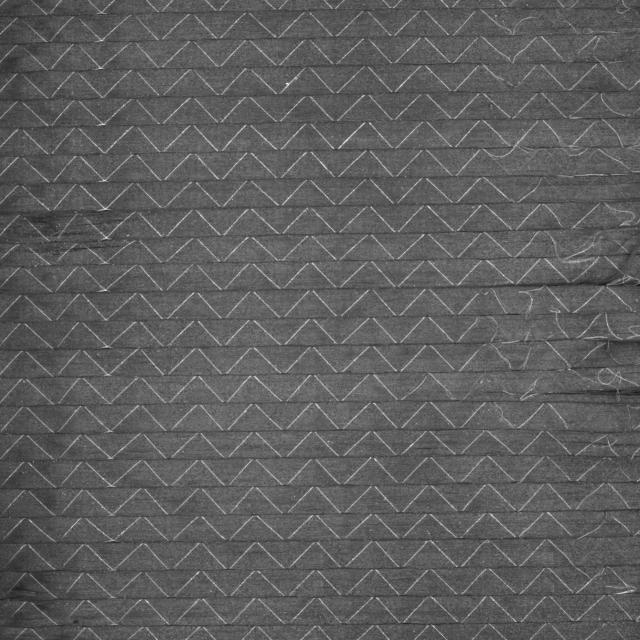carbon-fibre-defect: (506, 225, 640, 427), (574, 433, 640, 602), (508, 148, 637, 206), (24, 208, 142, 266)
